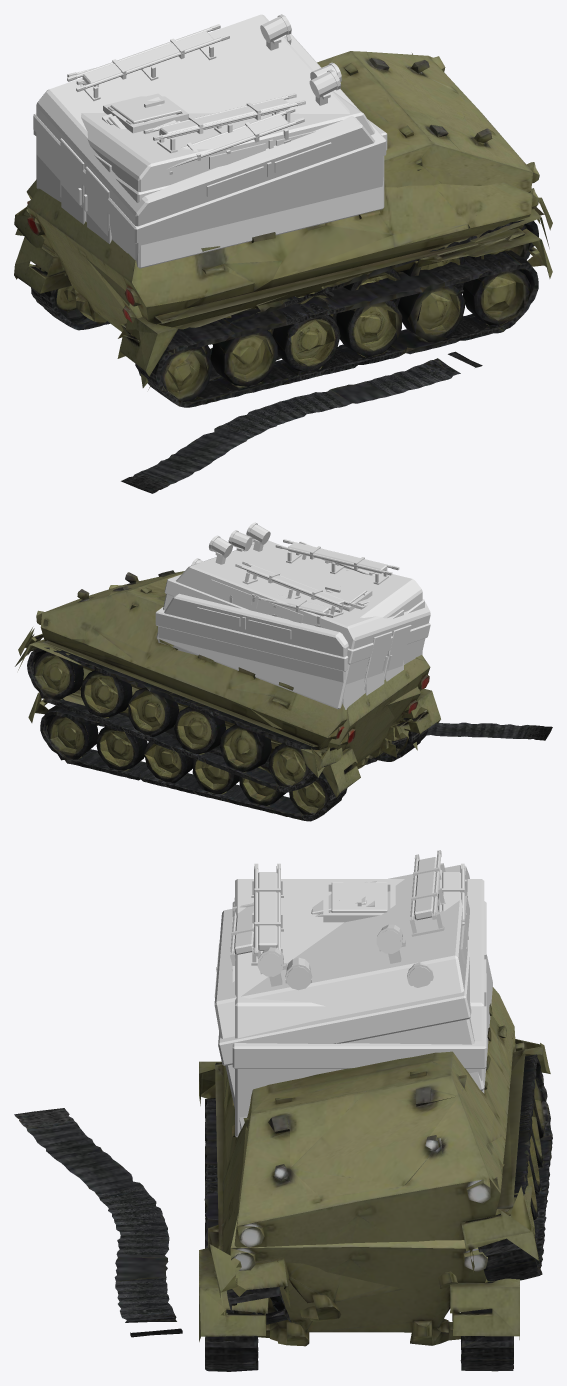
File: veh_ambulance.glb
The picture shows the model from 3 angles, top to bottom: view 1: azimuth 30°, elevation 25°; view 2: azimuth 150°, elevation 25°; view 3: azimuth 270°, elevation 25°; orthographic projection. The views are drawn at different scales.
Parts seen in each view (by area): view 1: hull_hull, hull_rubber, WRECK_medical_hull, WRECK_hull_hull, medical_hull, WRECK_hull_rubber, WRECK_medical_plate, WRECK_medical_metal, medical_metal, medical_plate, WRECK_medical_glass, medical_glass; view 2: WRECK_hull_hull, WRECK_hull_rubber, hull_rubber, WRECK_medical_hull, medical_hull, hull_hull, medical_plate, medical_metal, WRECK_medical_plate, WRECK_medical_metal, WRECK_medical_glass, medical_glass; view 3: WRECK_hull_hull, hull_hull, WRECK_hull_rubber, WRECK_medical_hull, medical_hull, hull_rubber, WRECK_medical_plate, medical_plate, medical_metal, WRECK_medical_metal, WRECK_medical_glass, medical_glass.
Boxes of the visible parts, bbox=[...] form: hull_hull: bbox=[15, 169, 549, 370]; hull_rubber: bbox=[14, 241, 552, 407]; WRECK_medical_hull: bbox=[36, 14, 383, 260]; WRECK_hull_hull: bbox=[15, 51, 549, 389]; medical_hull: bbox=[36, 74, 384, 268]; WRECK_hull_rubber: bbox=[14, 53, 552, 493]; WRECK_medical_plate: bbox=[33, 31, 386, 243]; WRECK_medical_metal: bbox=[67, 14, 340, 211]; medical_metal: bbox=[67, 34, 341, 193]; medical_plate: bbox=[33, 71, 387, 202]; WRECK_medical_glass: bbox=[206, 15, 340, 196]; medical_glass: bbox=[209, 34, 341, 168]; WRECK_hull_hull: bbox=[15, 570, 420, 777]; WRECK_hull_rubber: bbox=[18, 627, 552, 792]; hull_rubber: bbox=[28, 694, 440, 821]; WRECK_medical_hull: bbox=[156, 540, 430, 709]; medical_hull: bbox=[158, 540, 422, 709]; hull_hull: bbox=[32, 655, 440, 785]; medical_plate: bbox=[155, 542, 424, 671]; medical_metal: bbox=[192, 530, 399, 662]; WRECK_medical_plate: bbox=[164, 559, 430, 664]; WRECK_medical_metal: bbox=[209, 522, 392, 670]; WRECK_medical_glass: bbox=[209, 524, 303, 623]; medical_glass: bbox=[191, 531, 291, 639]; WRECK_hull_hull: bbox=[218, 987, 550, 1326]; hull_hull: bbox=[199, 1061, 519, 1346]; WRECK_hull_rubber: bbox=[14, 1039, 552, 1337]; WRECK_medical_hull: bbox=[214, 865, 492, 1129]; medical_hull: bbox=[235, 879, 484, 1137]; hull_rubber: bbox=[199, 1074, 519, 1371]; WRECK_medical_plate: bbox=[218, 857, 471, 1065]; medical_plate: bbox=[232, 872, 486, 1068]; medical_metal: bbox=[234, 863, 486, 990]; WRECK_medical_metal: bbox=[216, 850, 468, 986]; WRECK_medical_glass: bbox=[214, 895, 469, 997]; medical_glass: bbox=[232, 919, 486, 1006].
Size of the model in its own units: 8.94 by 5.08 by 6.92.
1 material, 1 textured.
